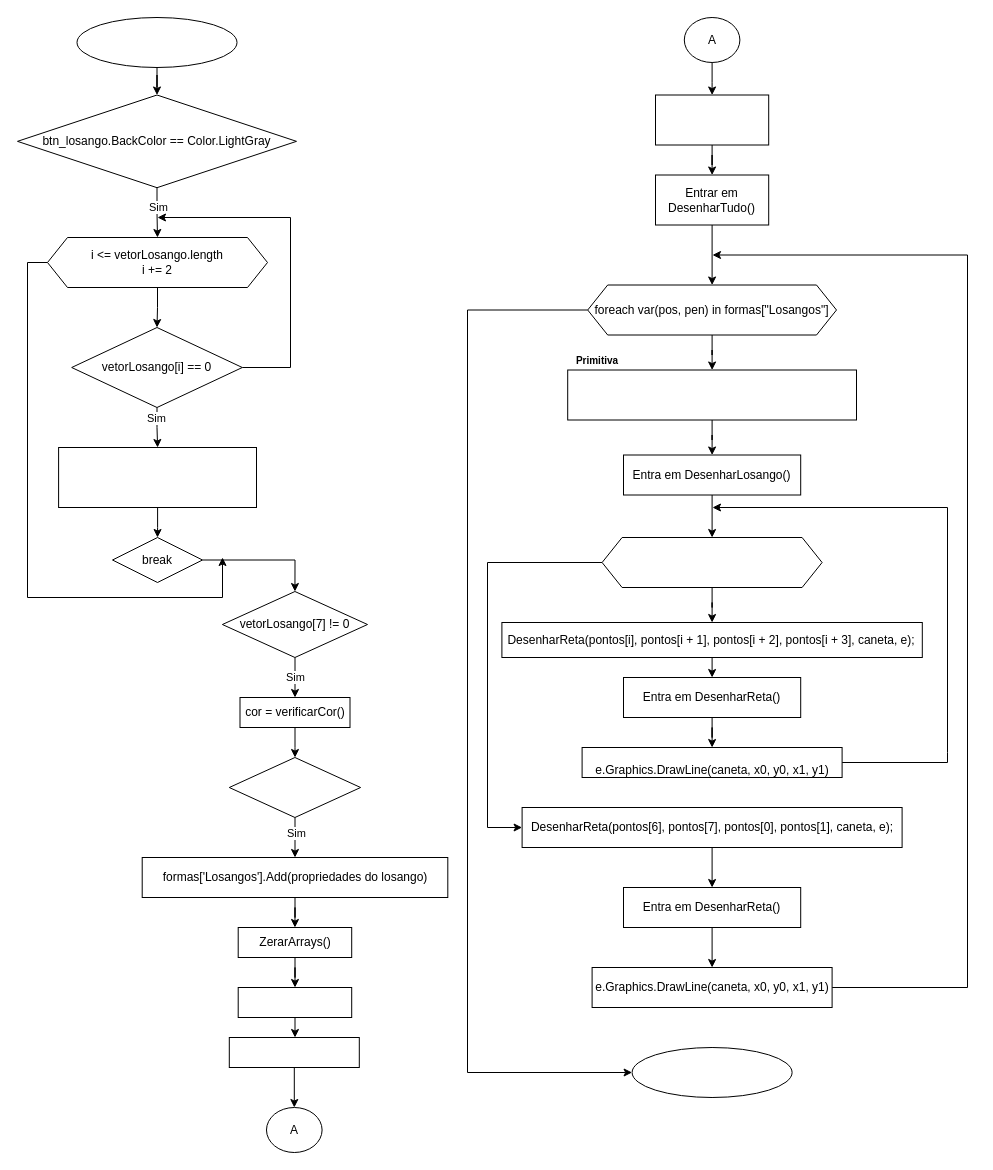
The diagram is 993 pixels wide and 1170 high, and some of its shapes have lost their labels. The centre of each missing label's shape, as x and y in pixels:
color != Color.Empty: point (294, 787)
DesenharLosango(var - propriedades do losango): point (711, 394)
DesenharTudo(e): point (711, 119)
Entrar em Forms Paint: point (293, 1052)
Fim: point (711, 1072)
i = 0; i < 5; i += 2: point (711, 562)
Invalidate(): point (294, 1002)
Início (Mouse Click): point (156, 42)
vetorLosango[i] = Mouse.X vetorLosango[i+ 1] = Mouse.Y: point (157, 477)
